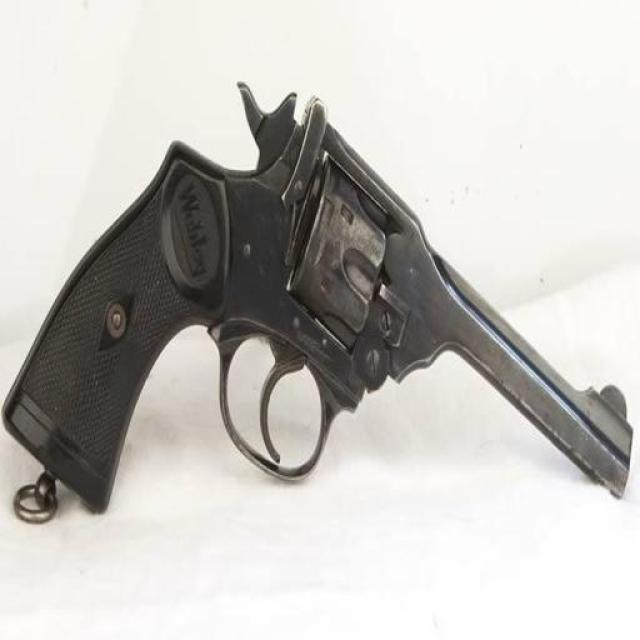pistol: (3, 76, 634, 500)
